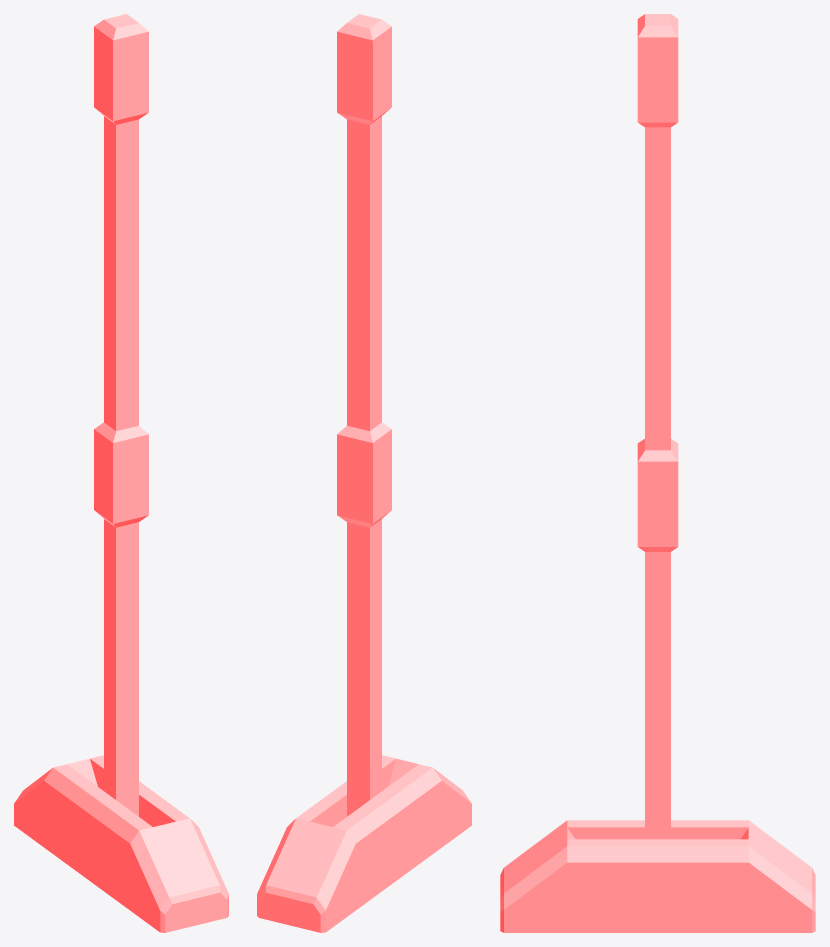
File: lever.fbx
3 views of the same model, side by side, from view 1: azimuth 30°, elevation 25°; view 2: azimuth 150°, elevation 25°; view 3: azimuth 270°, elevation 25° (orthographic). The views are drawn at different scales.
Visible parts, largest first — view 1: Cube.003, Cube.001, Cube.002; view 2: Cube.001, Cube.003, Cube.002; view 3: Cube.001, Cube.003, Cube.002.
Part boxes in pixels (x1,y1,x2,y2): Cube.003: (94,14,148,815); Cube.001: (14,755,228,932); Cube.002: (94,422,148,816); Cube.001: (257,755,471,932); Cube.003: (337,14,391,816); Cube.002: (337,422,391,816); Cube.001: (500,820,815,932); Cube.003: (637,14,678,839); Cube.002: (637,439,678,839).
Bounding box in the file's own units: 15.92 × 188 × 59.97.
